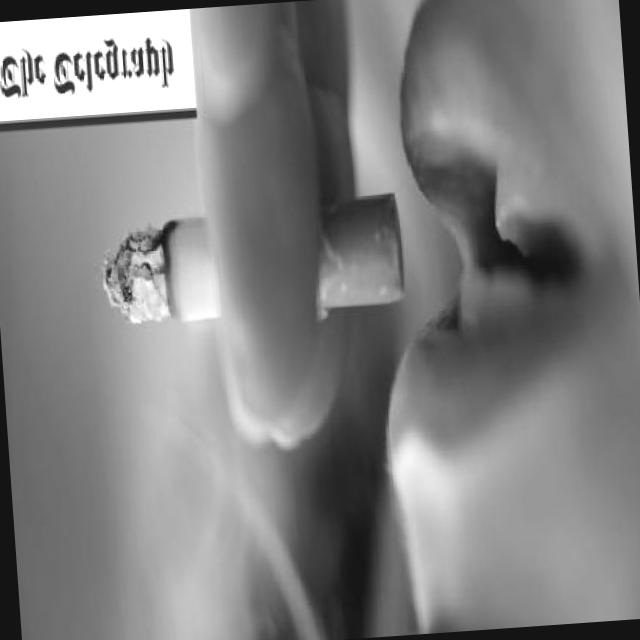cigarette: (100, 194, 408, 341)
